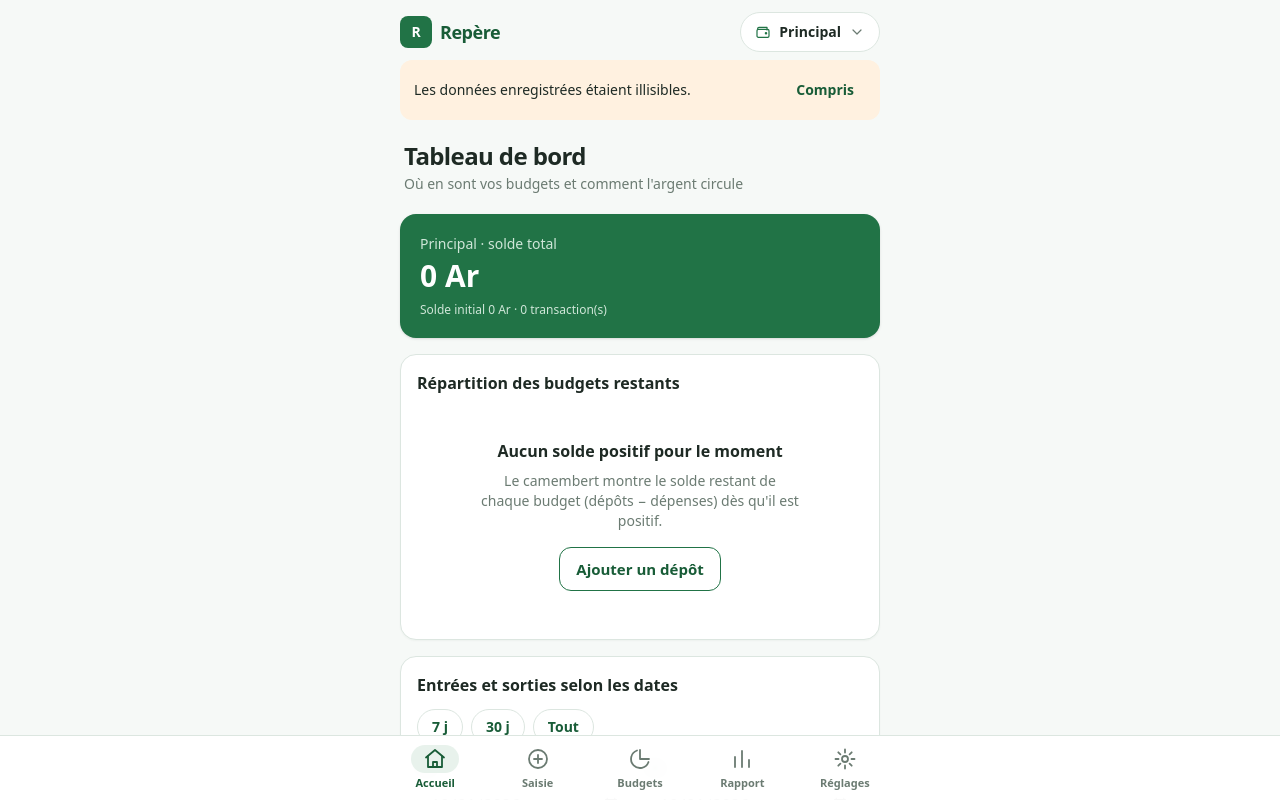
Scenario: erreurs de stockage › l'avertissement de démarrage s'affiche et se ferme
Check: the message shows "Les données enregistrées étaient illisibles.", box [414,80,691,99]
Click the button "Compris". click: (825,90)
box: [784,72,866,108]
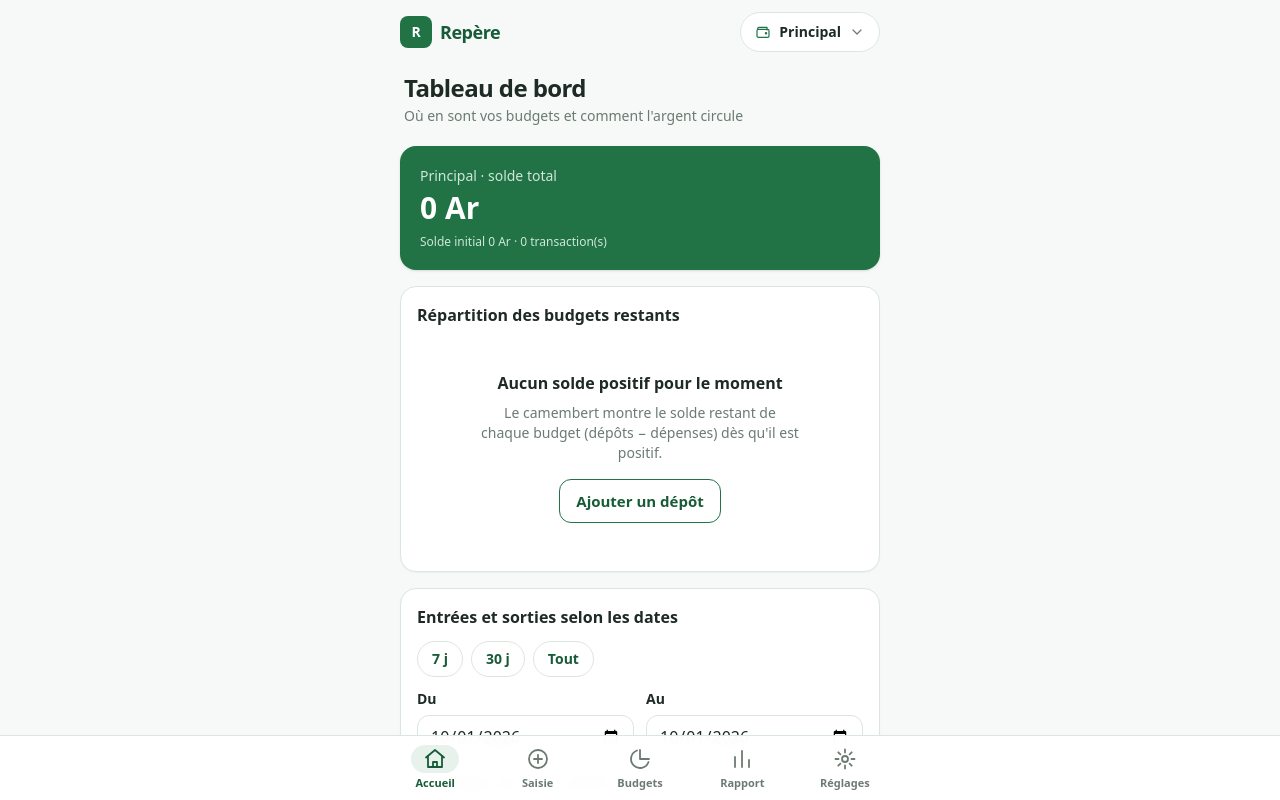
Check: the text "Les données enregistrées étaient illisibles." is gone
